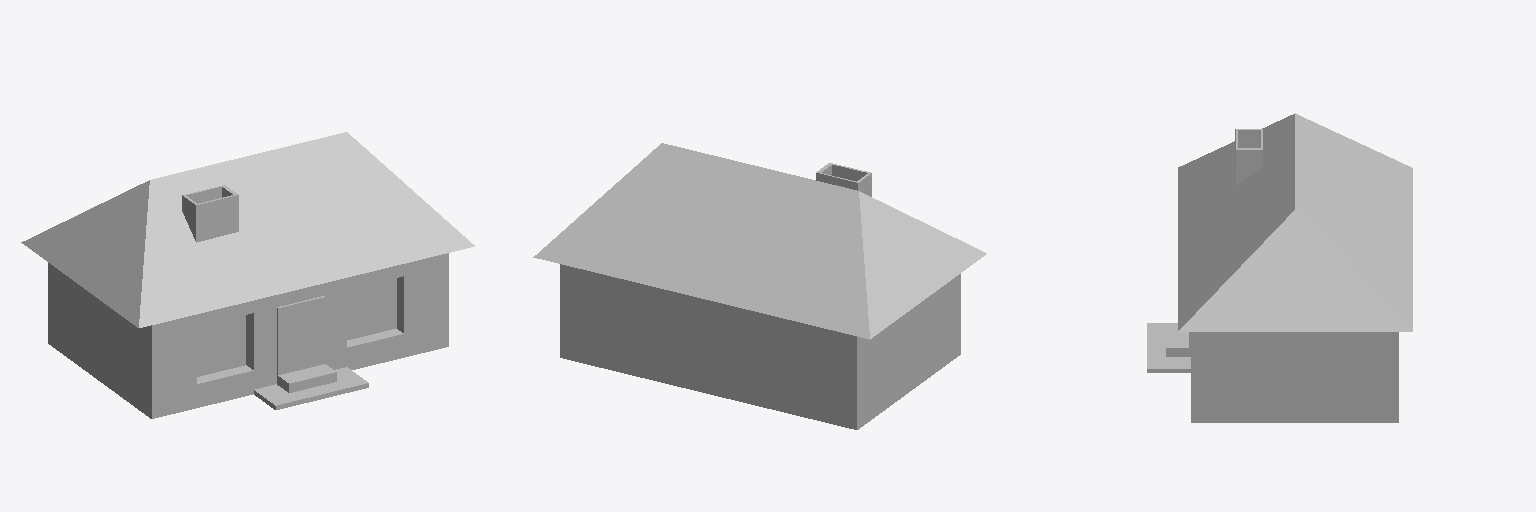
File: Praca2.obj
3 renders of one model, left to right at view 1: azimuth 30°, elevation 25°; view 2: azimuth 150°, elevation 25°; view 3: azimuth 270°, elevation 25°, orthographic.
Visible parts, largest first — view 1: Cube.001_Cube.005; view 2: Cube.001_Cube.005; view 3: Cube.001_Cube.005.
Boxes of the visible parts, box(x1,y1,x2,y2) form: Cube.001_Cube.005: box(21, 132, 474, 418); Cube.001_Cube.005: box(533, 143, 986, 429); Cube.001_Cube.005: box(1147, 113, 1412, 422).
Bounding box in the file's own units: 12.8 × 6.87 × 8.73.